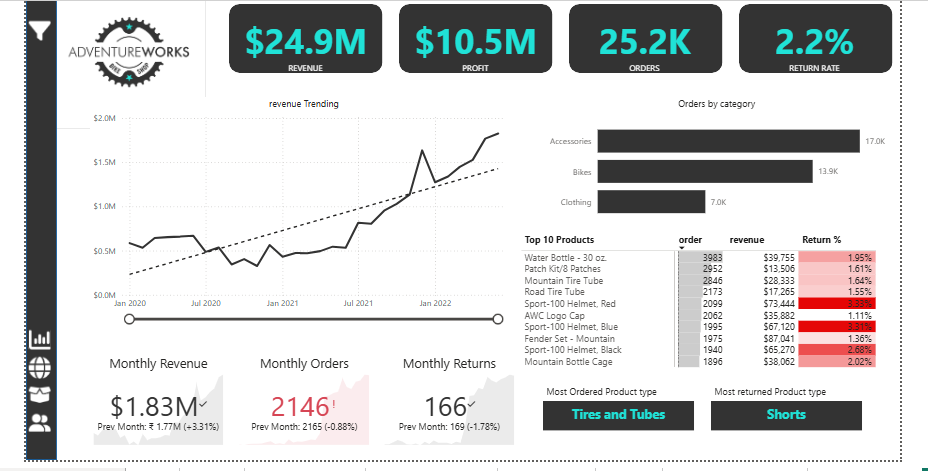

The page's visual inventory and layout, read from the dashboard file:
{"tool":"powerbi","page":{"name":"Exec Dashboard","canvas":[1280,720],"ordinal":1},"visuals":[{"type":"card","fields":{"Values":["Measure Table.Total revenue"]},"box":[295,0,226.9,225.4],"z":0,"group":"g2"},{"type":"image","title":"AW logo","box":[37.4,10.1,226.1,226.1],"z":0},{"type":"group","id":"g1","title":"KPI backgrounds","box":[295.8,53.3,970.6,100.8],"z":0,"group":"g3"},{"type":"shape","box":[295.8,53.3,224.6,100.8],"z":0,"group":"g1"},{"type":"actionButton","box":[0,604.2,44.4,40.3],"z":0,"group":"g4"},{"type":"shape","title":"Left nav background","box":[0,0,45,720],"z":1000},{"type":"group","id":"g2","title":"KPI values","box":[295,0,971.6,225.4],"z":1000,"group":"g3"},{"type":"card","fields":{"Values":["Measure Table.Total Profit"]},"box":[543.3,0,226.9,225.4],"z":1000,"group":"g2"},{"type":"shape","box":[1041.7,53.3,224.6,100.8],"z":1000,"group":"g1"},{"type":"actionButton","box":[0,563.9,44.4,40.3],"z":1000,"group":"g4"},{"type":"group","id":"g3","title":"KPIs","box":[295,0,970,225],"z":2000},{"type":"card","fields":{"Values":["Measure Table.Return rate"]},"box":[1039.8,0,226.9,225.4],"z":2000,"group":"g2"},{"type":"shape","box":[544.4,53.3,224.6,100.8],"z":2000,"group":"g1"},{"type":"actionButton","box":[0,644.4,44.4,40.3],"z":2000,"group":"g4"},{"type":"card","fields":{"Values":["Measure Table.total order"]},"box":[791.5,0,226.9,225.4],"z":3000,"group":"g2"},{"type":"shape","title":"Shape","box":[793.1,53.3,224.6,100.8],"z":3000,"group":"g1"},{"type":"actionButton","box":[0,523.6,44.4,40.3],"z":3000,"group":"g4"},{"type":"kpi","title":"Monthly Revenue","fields":{"Indicator":["Measure Table.Total revenue"],"TrendLine":["Calendar Lookup.Start of Month"],"Goal":["Measure Table.Previous month revenue"]},"box":[94.2,565.4,200,138.5],"z":3000},{"type":"kpi","title":"Monthly Orders","fields":{"TrendLine":["Calendar Lookup.Start of Month"],"Indicator":["Measure Table.total order"],"Goal":["Measure Table.Previous month orders"]},"box":[306.7,565.4,200,138.5],"z":4000},{"type":"kpi","title":"Monthly Returns","fields":{"TrendLine":["Calendar Lookup.Start of Month"],"Indicator":["Measure Table.total returns"],"Goal":["Measure Table.Previous month returns"]},"box":[519.2,565.4,200,138.5],"z":5000},{"type":"clusteredBarChart","title":"Orders by category","fields":{"Category":["Product Categories Lookup.CategoryName"],"Y":["Measure Table.total order"]},"box":[756.8,189.2,508.1,194.6],"z":6000},{"type":"pivotTable","fields":{"Rows":["Product Lookup.ProductName"],"Values":["Measure Table.total order","Measure Table.Total revenue","Measure Table.Return rate"]},"box":[720.3,383.8,544.6,221.6],"z":7000},{"type":"card","fields":{"Values":["Min(Product Subcategories Lookup.SubcategoryName)"]},"box":[756.8,634.2,220.5,43.2],"z":8000},{"type":"textbox","box":[756.8,605.4,190.3,28.8],"z":9000},{"type":"card","fields":{"Values":["Min(Product Subcategories Lookup.SubcategoryName)"]},"box":[1001.7,634.1,220.5,43.2],"z":10000},{"type":"textbox","box":[1001.8,605.4,197.5,28.8],"z":11000},{"type":"actionButton","box":[0,9.7,44.4,40.3],"z":12000},{"type":"group","id":"g4","title":"NAv button","box":[0,523.6,44.4,161.1],"z":13000},{"type":"actionButton","box":[0,72.2,44.4,40.3],"z":14000},{"type":"lineChart","title":"revenue Trending","fields":{"Y":["Measure Table.Total revenue"],"Category":["Calendar Lookup.Year","Calendar Lookup.Start of Month","Calendar Lookup.Start of Week"]},"box":[93.6,188.6,626.4,335.5],"z":16000}]}

Visuals, with their boxes on the page's 1280x720 design canvas (x1, y1, x2, y2). These are canvas units, not pixel positions in the 928x471 screenshot, which may show the page scaled, cropped or inside an application window:
card - Measure Table.Total revenue: BBox(295, 0, 522, 225)
"AW logo" image: BBox(37, 10, 264, 236)
"KPI backgrounds" group: BBox(296, 53, 1266, 154)
shape: BBox(296, 53, 520, 154)
actionButton: BBox(0, 604, 44, 644)
"Left nav background" shape: BBox(0, 0, 45, 720)
"KPI values" group: BBox(295, 0, 1267, 225)
card - Measure Table.Total Profit: BBox(543, 0, 770, 225)
shape: BBox(1042, 53, 1266, 154)
actionButton: BBox(0, 564, 44, 604)
"KPIs" group: BBox(295, 0, 1265, 225)
card - Measure Table.Return rate: BBox(1040, 0, 1267, 225)
shape: BBox(544, 53, 769, 154)
actionButton: BBox(0, 644, 44, 685)
card - Measure Table.total order: BBox(792, 0, 1018, 225)
"Shape" shape: BBox(793, 53, 1018, 154)
actionButton: BBox(0, 524, 44, 564)
"Monthly Revenue" kpi: BBox(94, 565, 294, 704)
"Monthly Orders" kpi: BBox(307, 565, 507, 704)
"Monthly Returns" kpi: BBox(519, 565, 719, 704)
"Orders by category" clusteredBarChart: BBox(757, 189, 1265, 384)
pivotTable - Product Lookup.ProductName x Measure Table.total order: BBox(720, 384, 1265, 605)
card - Min(Product Subcategories Lookup.SubcategoryName): BBox(757, 634, 977, 677)
textbox: BBox(757, 605, 947, 634)
card - Min(Product Subcategories Lookup.SubcategoryName): BBox(1002, 634, 1222, 677)
textbox: BBox(1002, 605, 1199, 634)
actionButton: BBox(0, 10, 44, 50)
"NAv button" group: BBox(0, 524, 44, 685)
actionButton: BBox(0, 72, 44, 112)
"revenue Trending" lineChart: BBox(94, 189, 720, 524)
